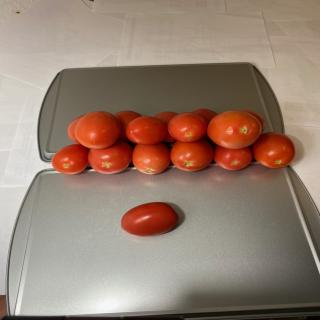Chilli: (51, 108, 296, 175)
Tomato: (207, 110, 262, 149), (121, 202, 179, 237), (75, 111, 121, 149), (252, 132, 296, 168), (88, 140, 132, 174), (170, 138, 214, 172), (132, 142, 171, 174), (168, 112, 208, 142), (51, 144, 89, 175), (126, 116, 168, 144), (214, 145, 252, 170), (114, 110, 142, 140), (154, 111, 178, 142), (240, 109, 266, 134), (67, 114, 85, 144), (192, 108, 218, 124)
